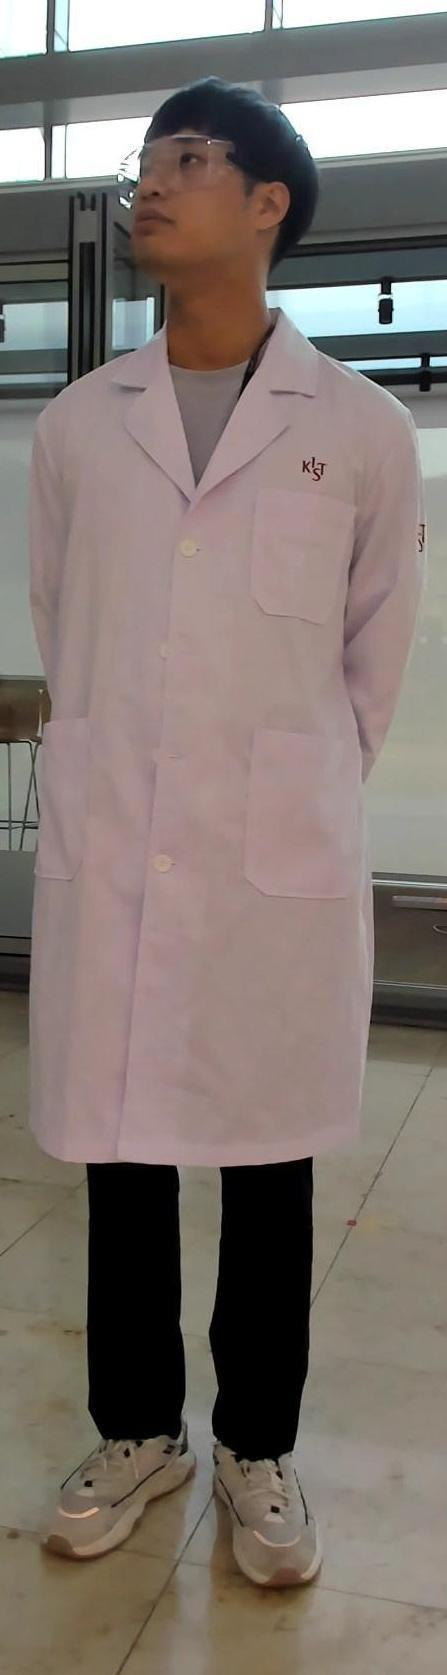lab_coat: (24, 364, 392, 1160)
